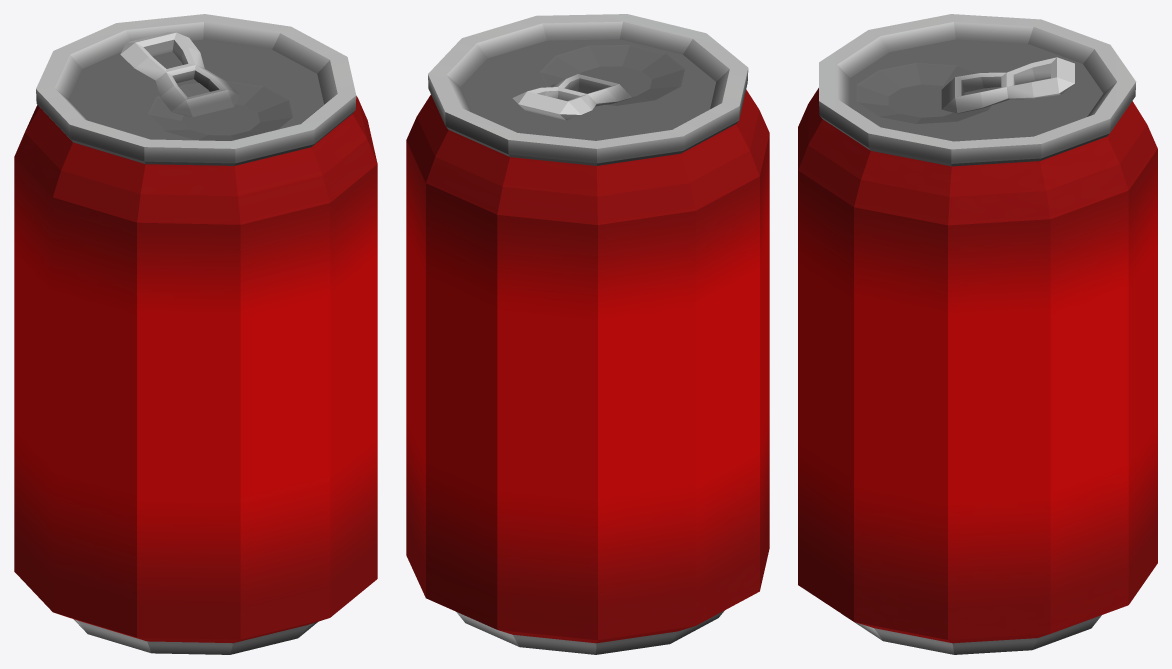
The model's file is SodaCan.glb.
3 renders of one model, left to right at view 1: azimuth 30°, elevation 25°; view 2: azimuth 150°, elevation 25°; view 3: azimuth 270°, elevation 25°, orthographic.
Parts seen in each view (by area): view 1: Soda can; view 2: Soda can; view 3: Soda can.
Boxes of the visible parts, bbox=[...] form: Soda can: bbox=[14, 14, 377, 654]; Soda can: bbox=[406, 14, 769, 654]; Soda can: bbox=[798, 14, 1157, 654].
Bounding box in the file's own units: 0.619 × 0.9948 × 0.6126.
1 material, 1 textured.
